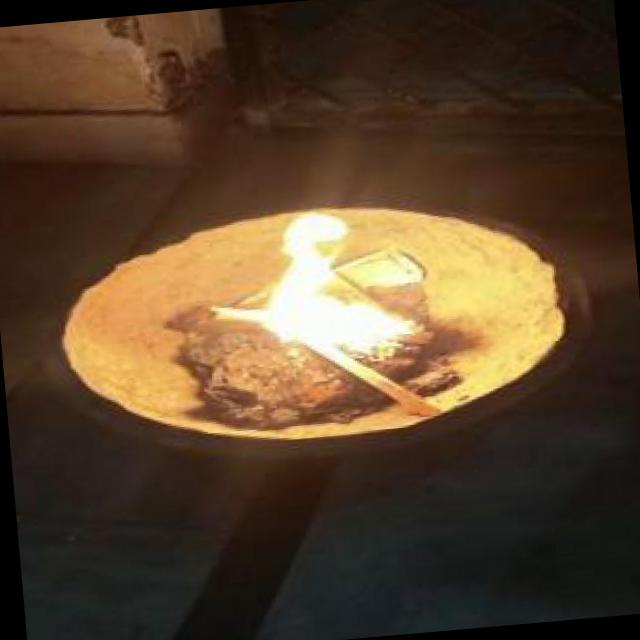fire: (240, 202, 428, 372)
